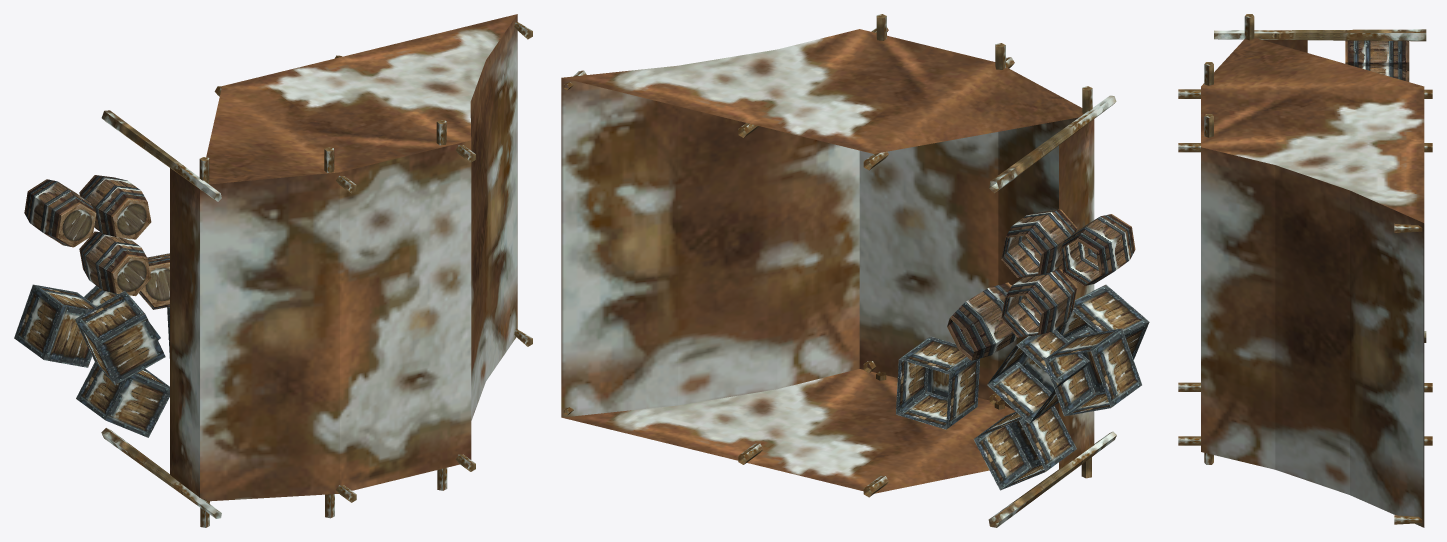
File: zhanchang_fuben_190_bugei.obj
3 views of the same model, side by side, from view 1: azimuth 30°, elevation 25°; view 2: azimuth 150°, elevation 25°; view 3: azimuth 270°, elevation 25° (orthographic). The views are drawn at different scales.
Parts seen in each view (by area): view 1: Object01; view 2: Object01; view 3: Object01.
Part boxes in pixels (x1=…): Object01: x1=14, y1=14, x2=532, y2=527; Object01: x1=561, y1=14, x2=1149, y2=527; Object01: x1=1178, y1=14, x2=1432, y2=527.
Size of the model in its own units: 335 by 229 by 152.
4 materials, 4 textured.
